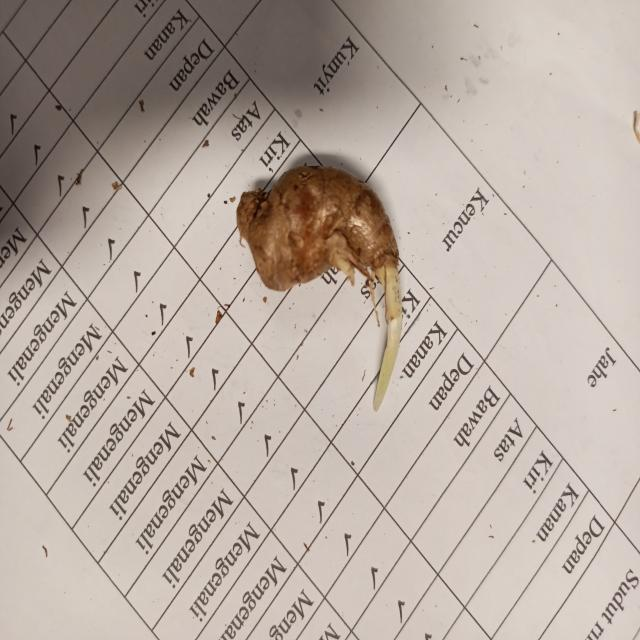ginger: (244, 173, 390, 281)
